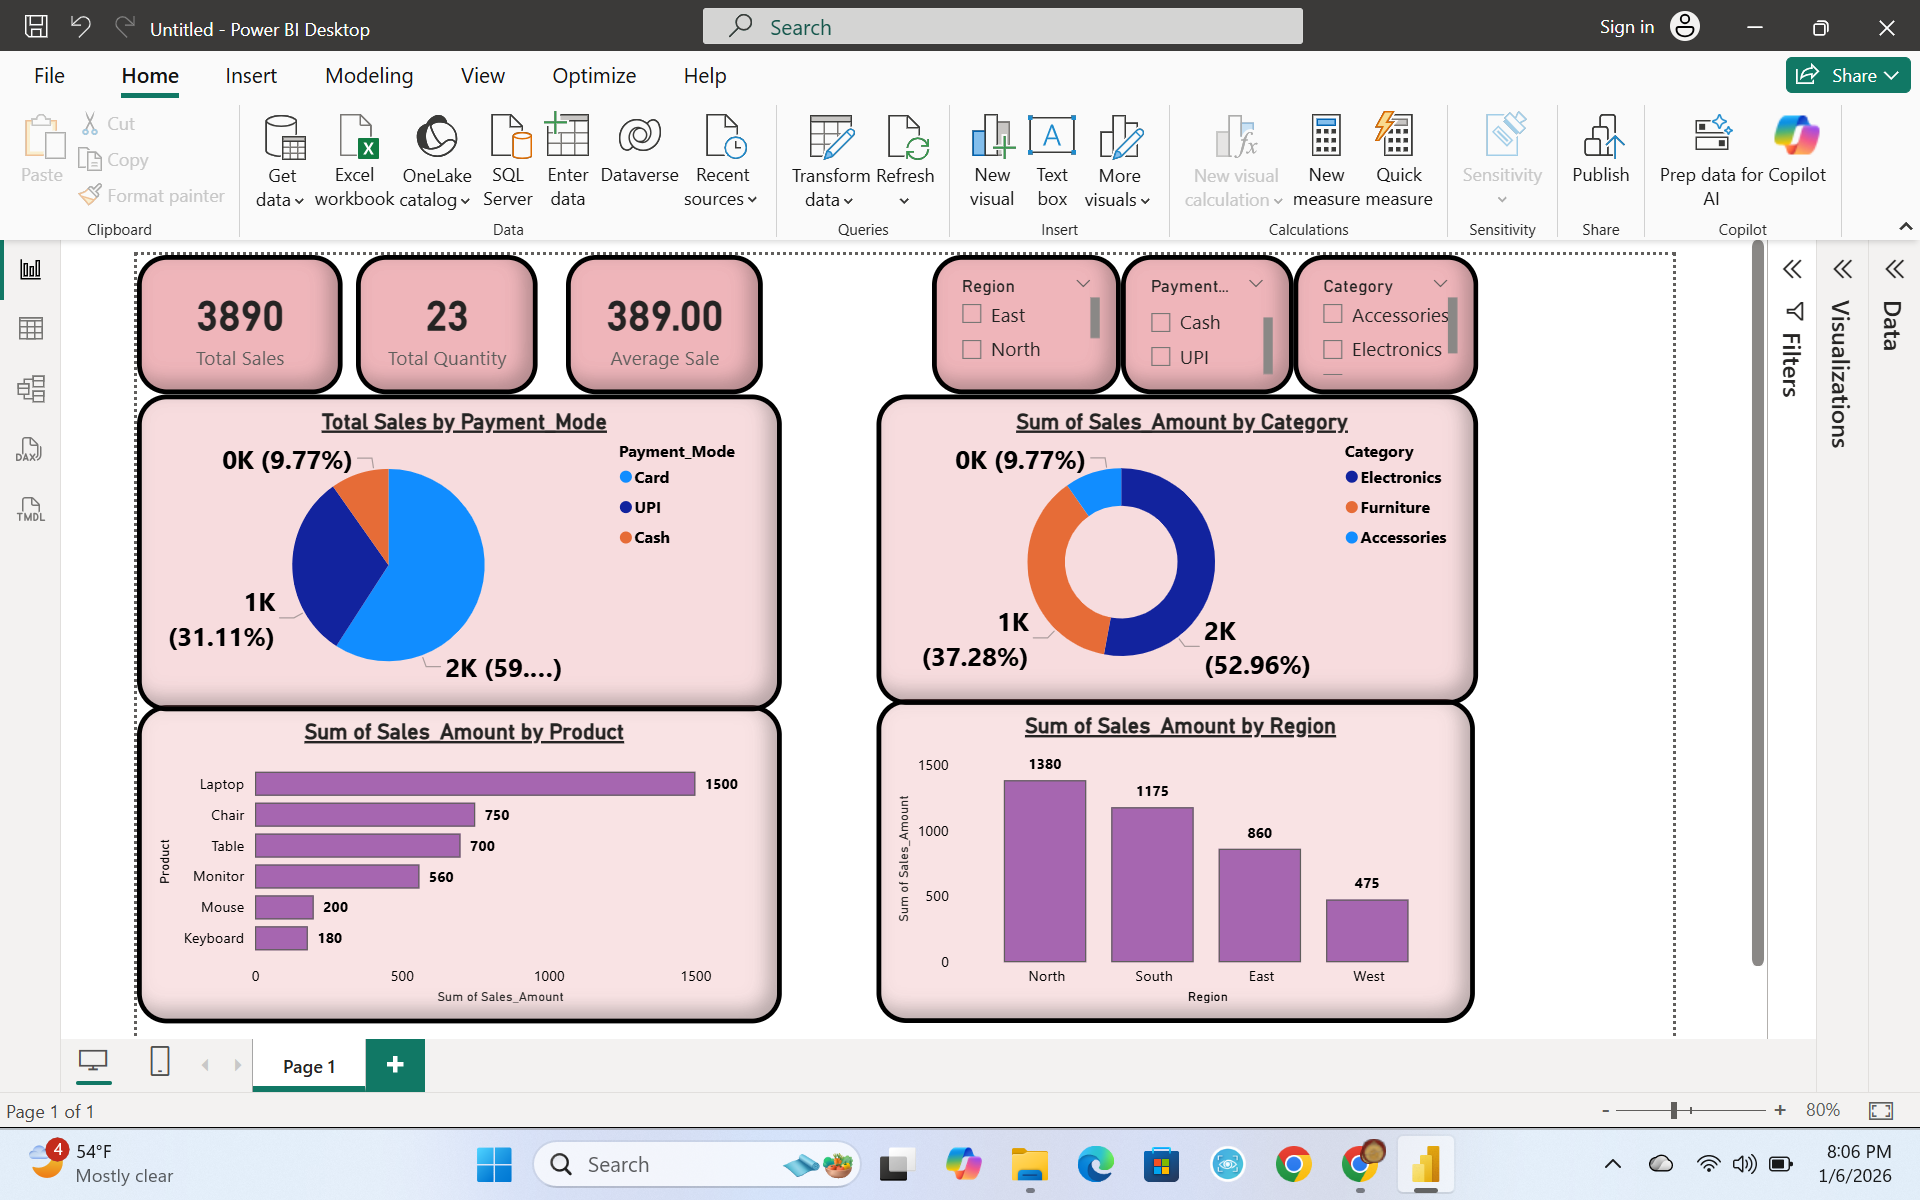

What the dashboard file says about the page in this screenshot:
{"tool":"powerbi","page":{"name":"Page 1","canvas":[1280,720],"ordinal":0},"visuals":[{"type":"card","fields":{"Values":["Sales_Data.Total Sales"]},"box":[0,0,171.4,115.7],"z":0},{"type":"card","fields":{"Values":["Sales_Data.Total Quantity"]},"box":[182.9,0,151.4,115.7],"z":1},{"type":"card","fields":{"Values":["Sales_Data.Average Sale"]},"box":[357.1,0,164.3,115.7],"z":2},{"type":"clusteredColumnChart","fields":{"Category":["Sales_Data.Region"],"Y":["Sum(Sales_Data.Sales_Amount)"]},"box":[616.2,370,498.8,270],"z":3},{"type":"clusteredBarChart","fields":{"Category":["Sales_Data.Product"],"Y":["Sum(Sales_Data.Sales_Amount)"]},"box":[0,375,537.5,265],"z":4},{"type":"donutChart","fields":{"Category":["Sales_Data.Category"],"Y":["Sum(Sales_Data.Sales_Amount)"]},"box":[616.2,116.2,501.2,258.8],"z":5},{"type":"pieChart","fields":{"Y":["Sales_Data.Total Sales"],"Category":["Sales_Data.Payment_Mode"]},"box":[0,116.2,537.5,263.8],"z":6},{"type":"slicer","fields":{"Values":["Sales_Data.Region"]},"box":[662.9,0,157.1,115.7],"z":7},{"type":"slicer","fields":{"Values":["Sales_Data.Category"]},"box":[963.8,0,153.8,116.2],"z":8},{"type":"slicer","fields":{"Values":["Sales_Data.Payment_Mode"]},"box":[820,0,143.8,116.2],"z":9}]}

Visuals, with their boxes on the page's 1280x720 design canvas (x1, y1, x2, y2). These are canvas units, not pixel positions in the 1920x1200 screenshot, which may show the page scaled, cropped or inside an application window:
card - Sales_Data.Total Sales: (x1=0, y1=0, x2=171, y2=116)
card - Sales_Data.Total Quantity: (x1=183, y1=0, x2=334, y2=116)
card - Sales_Data.Average Sale: (x1=357, y1=0, x2=521, y2=116)
clusteredColumnChart - Sales_Data.Region x Sum(Sales_Data.Sales_Amount): (x1=616, y1=370, x2=1115, y2=640)
clusteredBarChart - Sales_Data.Product x Sum(Sales_Data.Sales_Amount): (x1=0, y1=375, x2=538, y2=640)
donutChart - Sales_Data.Category x Sum(Sales_Data.Sales_Amount): (x1=616, y1=116, x2=1117, y2=375)
pieChart - Sales_Data.Total Sales x Sales_Data.Payment_Mode: (x1=0, y1=116, x2=538, y2=380)
slicer - Sales_Data.Region: (x1=663, y1=0, x2=820, y2=116)
slicer - Sales_Data.Category: (x1=964, y1=0, x2=1118, y2=116)
slicer - Sales_Data.Payment_Mode: (x1=820, y1=0, x2=964, y2=116)
